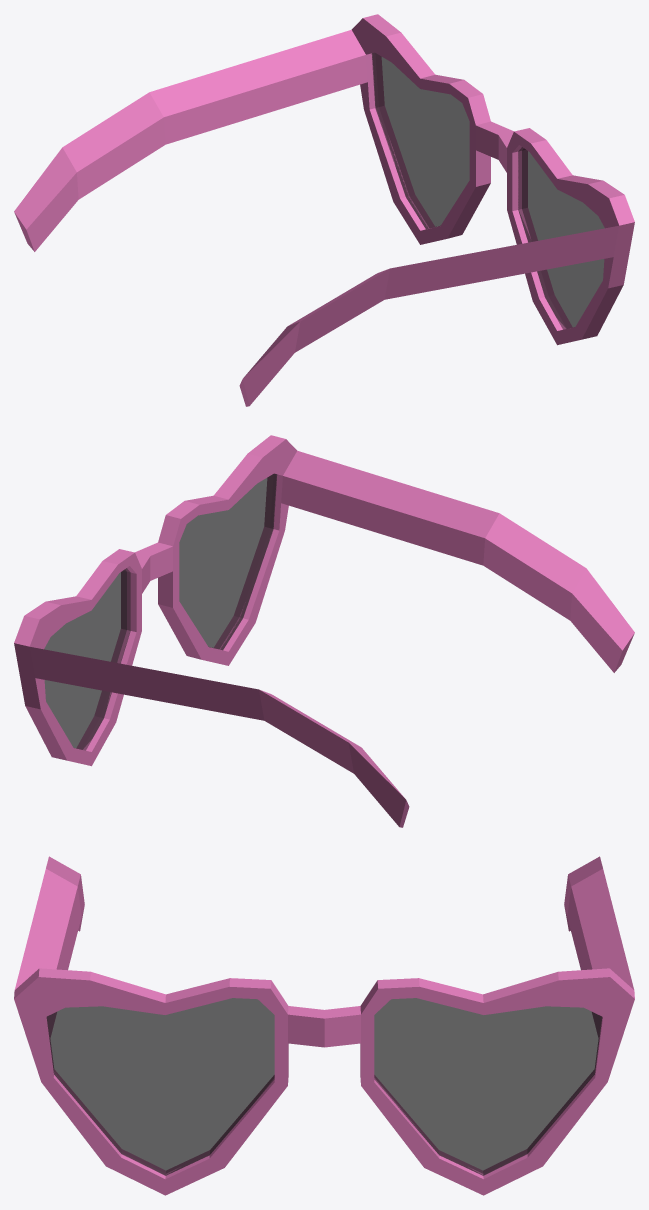
The model's file is Heart_Glasses.glb.
3 renders of one model, top to bottom at view 1: azimuth 30°, elevation 25°; view 2: azimuth 150°, elevation 25°; view 3: azimuth 270°, elevation 25°, orthographic. The views are drawn at different scales.
Visible parts, largest first — view 1: HeartGlasses_Cube; view 2: HeartGlasses_Cube; view 3: HeartGlasses_Cube.
Part boxes in pixels (x1,y1,x2,y2): HeartGlasses_Cube: [14, 14, 634, 406]; HeartGlasses_Cube: [14, 435, 634, 827]; HeartGlasses_Cube: [14, 856, 634, 1195].
Bounding box in the file's own units: 0.8829 × 0.4103 × 1.06.
